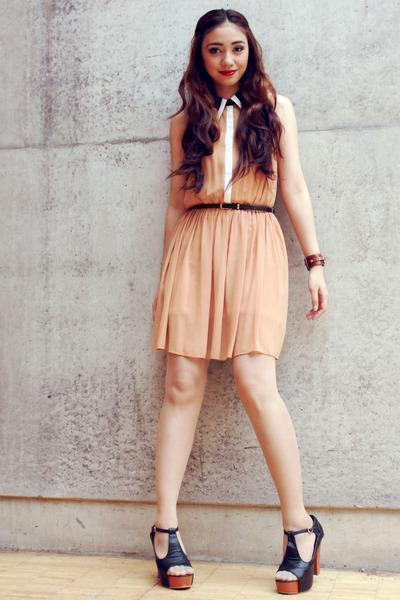dress: (148, 95, 287, 371)
shoe: (150, 515, 323, 594)
